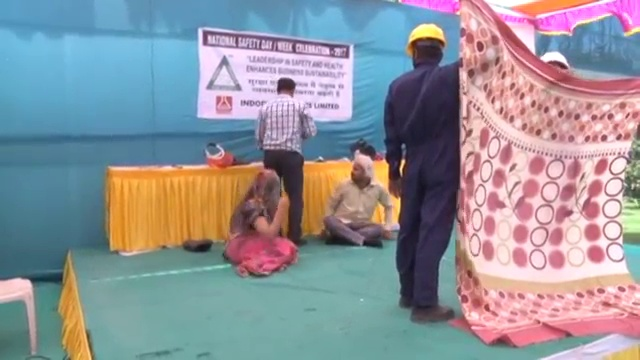helmet: (405, 22, 447, 54), (538, 50, 572, 69)
helmet_off: (347, 153, 372, 188), (255, 169, 280, 198), (275, 75, 296, 97)
helmet_on: (405, 23, 448, 68)
person: (382, 22, 462, 322), (251, 75, 316, 247), (227, 169, 297, 280), (325, 152, 395, 248)
